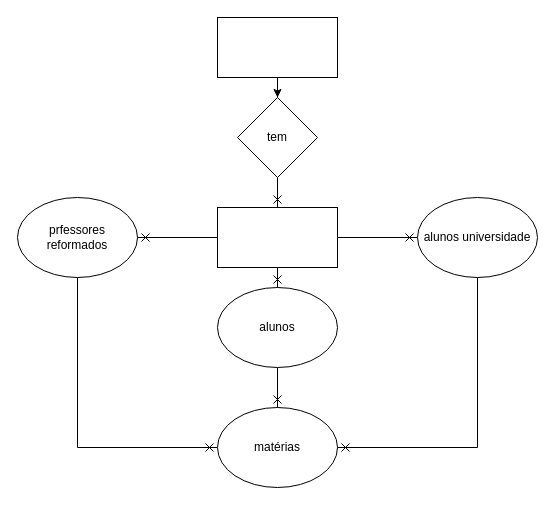
Image size: 555x505. Some labels were removed from this diagram. Here are the shapes that lost their labels. From the top down, the box of each, then its label:
(216, 16, 338, 78): H-Brains
(216, 206, 338, 268): explicadores
